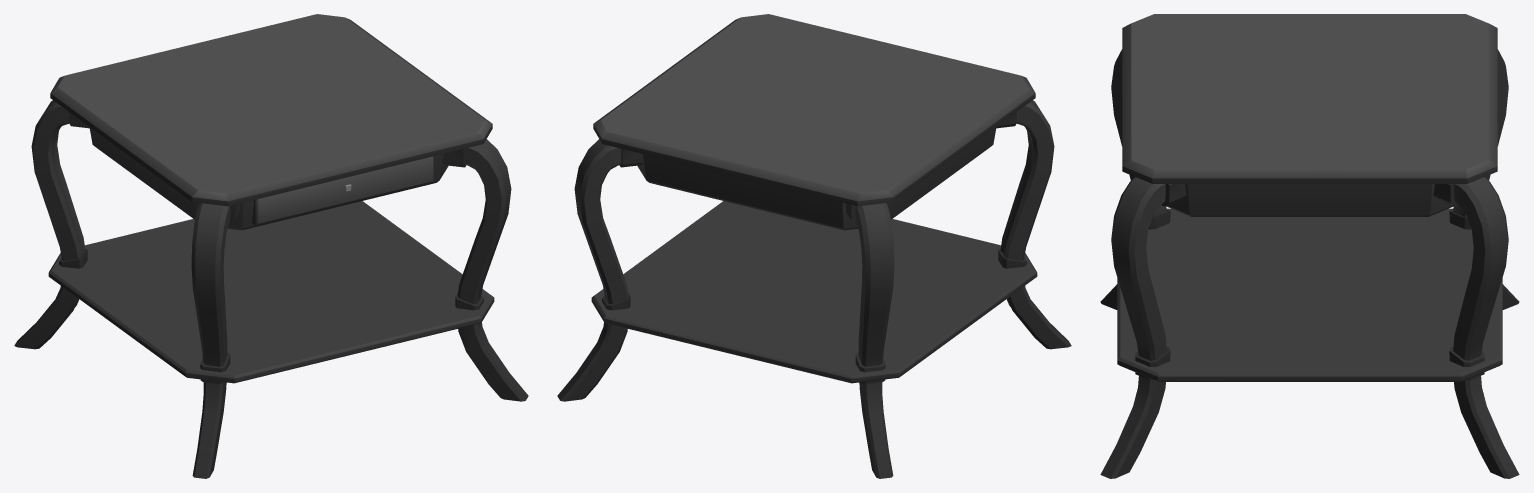
Rendered from Drawer_01_t.fbx.
3 renders of one model, left to right at view 1: azimuth 30°, elevation 25°; view 2: azimuth 150°, elevation 25°; view 3: azimuth 270°, elevation 25°, orthographic. The views are drawn at different scales.
Parts seen in each view (by area): view 1: polySurface85; view 2: polySurface85; view 3: polySurface85.
Boxes of the visible parts, <box> form: polySurface85: <box>14,14,528,478</box>; polySurface85: <box>557,14,1071,478</box>; polySurface85: <box>1100,14,1519,478</box>.
Size of the model in its own units: 1.04 by 0.7898 by 1.01.
1 material, 1 textured.
